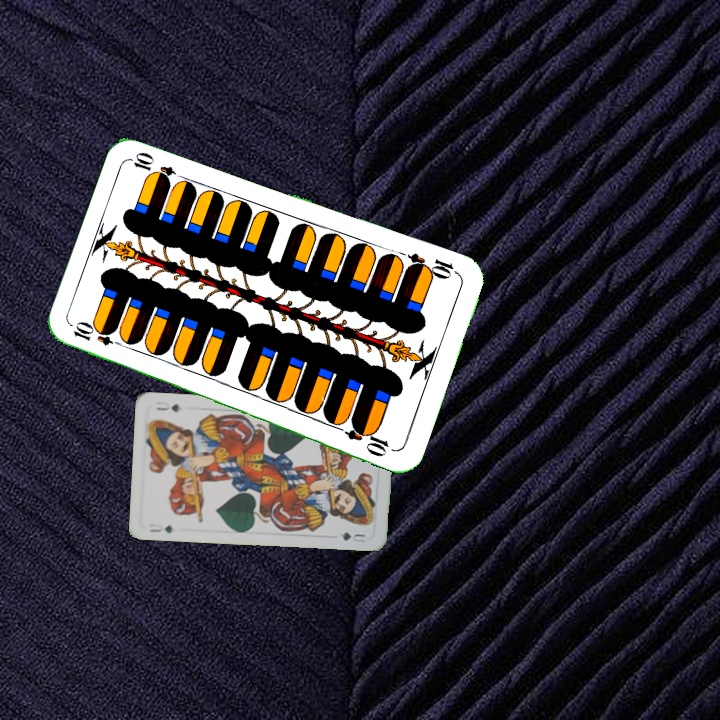E10: (402, 249, 461, 282), (69, 321, 128, 350)
GU: (146, 521, 174, 536)
